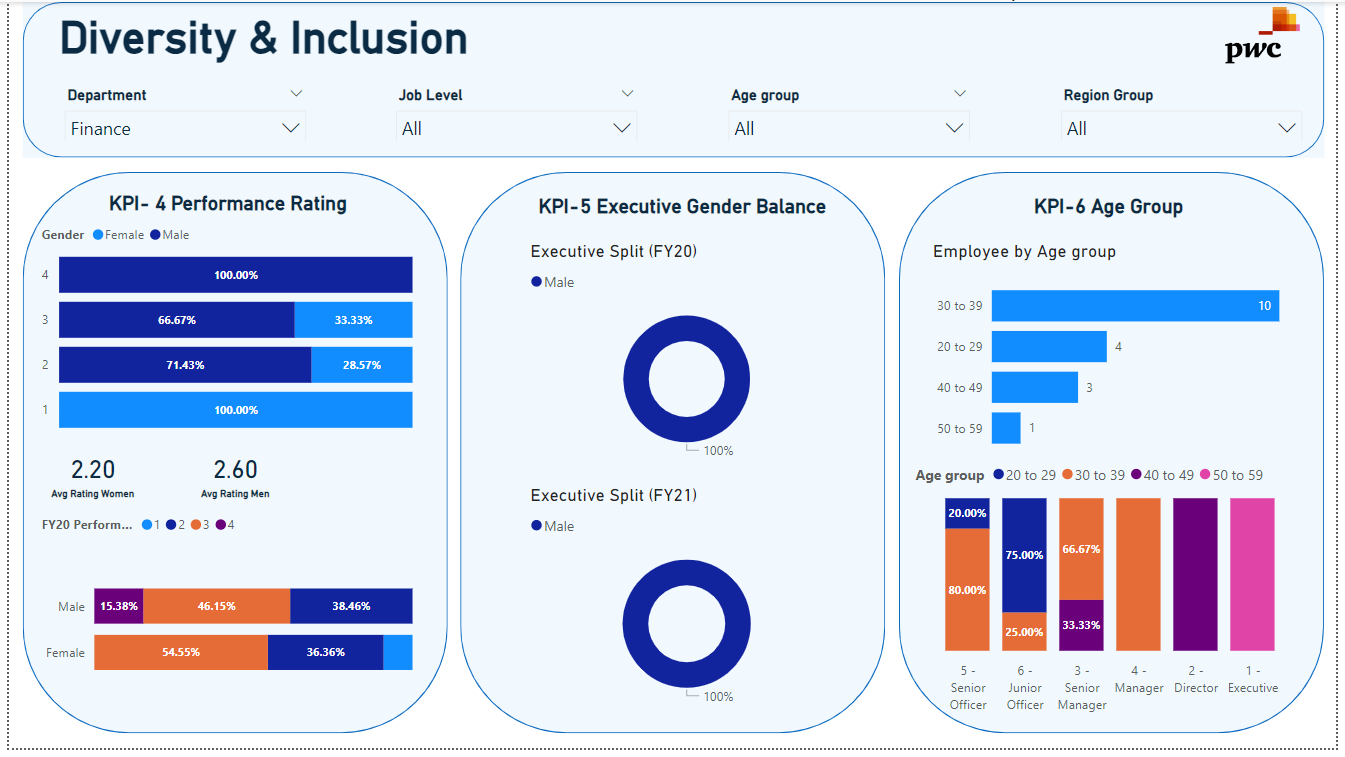

What the dashboard file says about the page in this screenshot:
{"tool":"powerbi","page":{"name":"Diversity 2","canvas":[1280,720],"ordinal":1},"visuals":[{"type":"shape","box":[12.9,164.3,410,541.4],"z":0},{"type":"shape","box":[12.9,0,1255.7,150],"z":1000},{"type":"textbox","box":[42.9,4.3,417.1,60],"z":2000},{"type":"image","box":[1161.4,0,95.7,64.3],"z":3000},{"type":"slicer","fields":{"Values":["Pharma Group AG.Department @01.07.2020"]},"box":[42.9,75.7,252.9,58.6],"z":4000},{"type":"slicer","fields":{"Values":["Pharma Group AG.Broad region group: nationality 1"]},"box":[1004.3,75.7,252.9,58.6],"z":5000},{"type":"slicer","fields":{"Values":["Pharma Group AG.Job Level before FY20 promotions"]},"box":[363.3,75.7,252.9,58.6],"z":6000},{"type":"slicer","fields":{"Values":["Pharma Group AG.Age group"]},"box":[683.8,75.7,252.9,58.6],"z":7000},{"type":"shape","box":[858.6,164.3,410,541.4],"z":8000},{"type":"shape","box":[435.7,164.3,410,541.4],"z":9000},{"type":"textbox","box":[58.6,178.6,304.3,34.3],"z":10000},{"type":"textbox","box":[885.7,181.4,351.4,32.9],"z":11000},{"type":"textbox","box":[490,181.4,320,31.4],"z":12000},{"type":"hundredPercentStackedBarChart","fields":{"Series":["Pharma Group AG.Gender"],"Y":["CountNonNull(Pharma Group AG.Employee ID)"],"Category":["Pharma Group AG.FY20 Performance Rating"]},"box":[27,205,368,219],"z":13000},{"type":"card","fields":{"Values":["Avg(Pharma Group AG.FY20 Performance Rating)"]},"box":[27,424,109,61],"z":14000},{"type":"card","fields":{"Values":["Avg(Pharma Group AG.FY20 Performance Rating)"]},"box":[164,424,109,61],"z":15000},{"type":"hundredPercentStackedBarChart","fields":{"Category":["Pharma Group AG.Gender"],"Series":["Pharma Group AG.FY20 Performance Rating"],"Y":["Sum(Pharma Group AG.FY20 Performance Rating)"]},"box":[27,485,368,207],"z":16000},{"type":"donutChart","title":"Executive Split (FY20)","fields":{"Category":["Pharma Group AG.Gender"],"Y":["CountNonNull(Pharma Group AG.Job Level after FY20 promotions)"]},"box":[498,230,312,218],"z":17000},{"type":"donutChart","title":"Executive Split (FY21)","fields":{"Category":["Pharma Group AG.Gender"],"Y":["CountNonNull(Pharma Group AG.Job Level after FY21 promotions)"]},"box":[498,466,312,220],"z":18000},{"type":"clusteredBarChart","title":"Employee by Age group","fields":{"Y":["CountNonNull(Pharma Group AG.Employee ID)"],"Category":["Pharma Group AG.Age group"]},"box":[886,230,364,218],"z":19000},{"type":"hundredPercentStackedColumnChart","fields":{"Series":["Pharma Group AG.Age group"],"Y":["CountNonNull(Pharma Group AG.Job Level after FY20 promotions)"],"Category":["Pharma Group AG.Job Level after FY20 promotions"]},"box":[870,435,380,257.5],"z":20000}]}

Visuals, with their boxes in screenshot pixels (x1, y1, x2, y2), scaled from the page's 1280x720 canvas onto the 1345x757 screenshot:
shape: (x1=14, y1=173, x2=444, y2=742)
shape: (x1=14, y1=0, x2=1333, y2=158)
textbox: (x1=45, y1=5, x2=483, y2=68)
image: (x1=1220, y1=0, x2=1321, y2=68)
slicer - Pharma Group AG.Department @01.07.2020: (x1=45, y1=80, x2=311, y2=141)
slicer - Pharma Group AG.Broad region group: nationality 1: (x1=1055, y1=80, x2=1321, y2=141)
slicer - Pharma Group AG.Job Level before FY20 promotions: (x1=382, y1=80, x2=647, y2=141)
slicer - Pharma Group AG.Age group: (x1=719, y1=80, x2=984, y2=141)
shape: (x1=902, y1=173, x2=1333, y2=742)
shape: (x1=458, y1=173, x2=889, y2=742)
textbox: (x1=62, y1=188, x2=381, y2=224)
textbox: (x1=931, y1=191, x2=1300, y2=225)
textbox: (x1=515, y1=191, x2=851, y2=224)
hundredPercentStackedBarChart - Pharma Group AG.Gender x CountNonNull(Pharma Group AG.Employee ID): (x1=28, y1=216, x2=415, y2=446)
card - Avg(Pharma Group AG.FY20 Performance Rating): (x1=28, y1=446, x2=143, y2=510)
card - Avg(Pharma Group AG.FY20 Performance Rating): (x1=172, y1=446, x2=287, y2=510)
hundredPercentStackedBarChart - Pharma Group AG.Gender x Pharma Group AG.FY20 Performance Rating: (x1=28, y1=510, x2=415, y2=728)
"Executive Split (FY20)" donutChart: (x1=523, y1=242, x2=851, y2=471)
"Executive Split (FY21)" donutChart: (x1=523, y1=490, x2=851, y2=721)
"Employee by Age group" clusteredBarChart: (x1=931, y1=242, x2=1313, y2=471)
hundredPercentStackedColumnChart - Pharma Group AG.Age group x CountNonNull(Pharma Group AG.Job Level after FY20 promotions): (x1=914, y1=457, x2=1313, y2=728)
